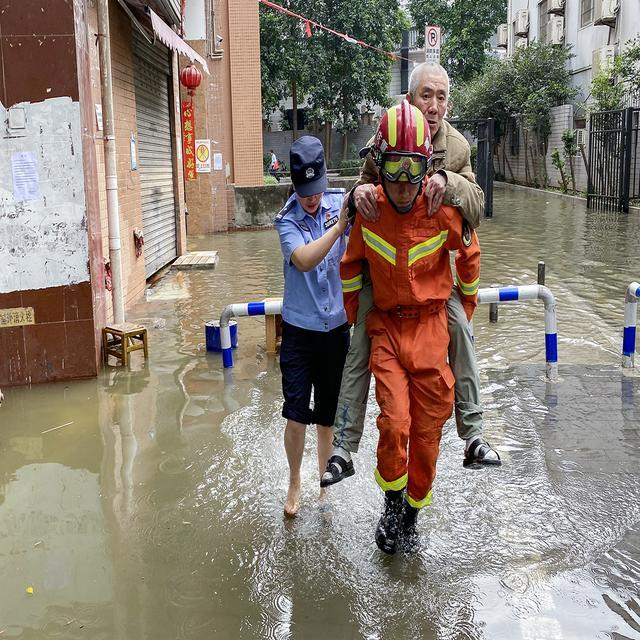Person-RiskLevel2: (320, 60, 504, 561), (277, 131, 353, 527)
